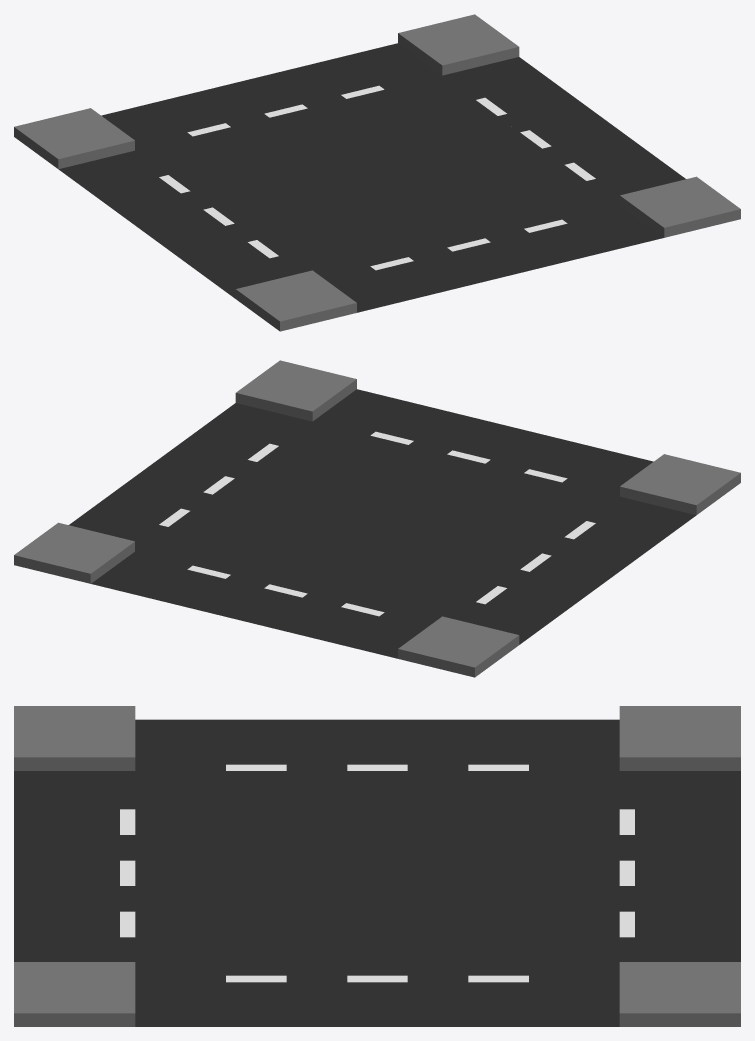
The model's file is RoadCross.fbx.
The picture shows the model from 3 angles, top to bottom: view 1: azimuth 30°, elevation 25°; view 2: azimuth 150°, elevation 25°; view 3: azimuth 270°, elevation 25°; orthographic projection. The views are drawn at different scales.
Parts seen in each view (by area): view 1: RoadCross; view 2: RoadCross; view 3: RoadCross.
Boxes of the visible parts, <box> form: RoadCross: <box>14,14,740,331</box>; RoadCross: <box>14,360,740,677</box>; RoadCross: <box>14,706,740,1026</box>.
Size of the model in its own units: 24 by 0.5 by 24.
1 material, 1 textured.
